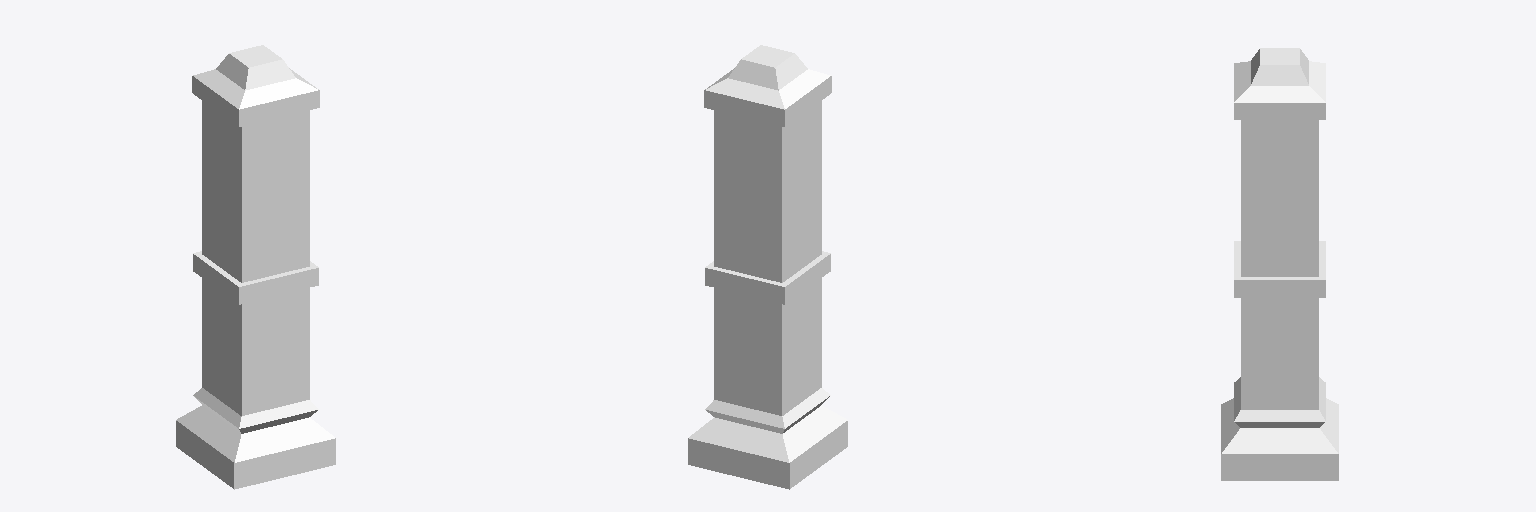
File: Central_Pilar.obj
3 renders of one model, left to right at view 1: azimuth 30°, elevation 25°; view 2: azimuth 150°, elevation 25°; view 3: azimuth 270°, elevation 25°, orthographic.
Parts seen in each view (by area): view 1: Pillar4_Plane.012; view 2: Pillar4_Plane.012; view 3: Pillar4_Plane.012.
Boxes of the visible parts, <box> form: Pillar4_Plane.012: <box>176,45,335,489</box>; Pillar4_Plane.012: <box>688,45,847,489</box>; Pillar4_Plane.012: <box>1221,48,1338,480</box>.
Bounding box in the file's own units: 1.2 × 4.5 × 1.2.